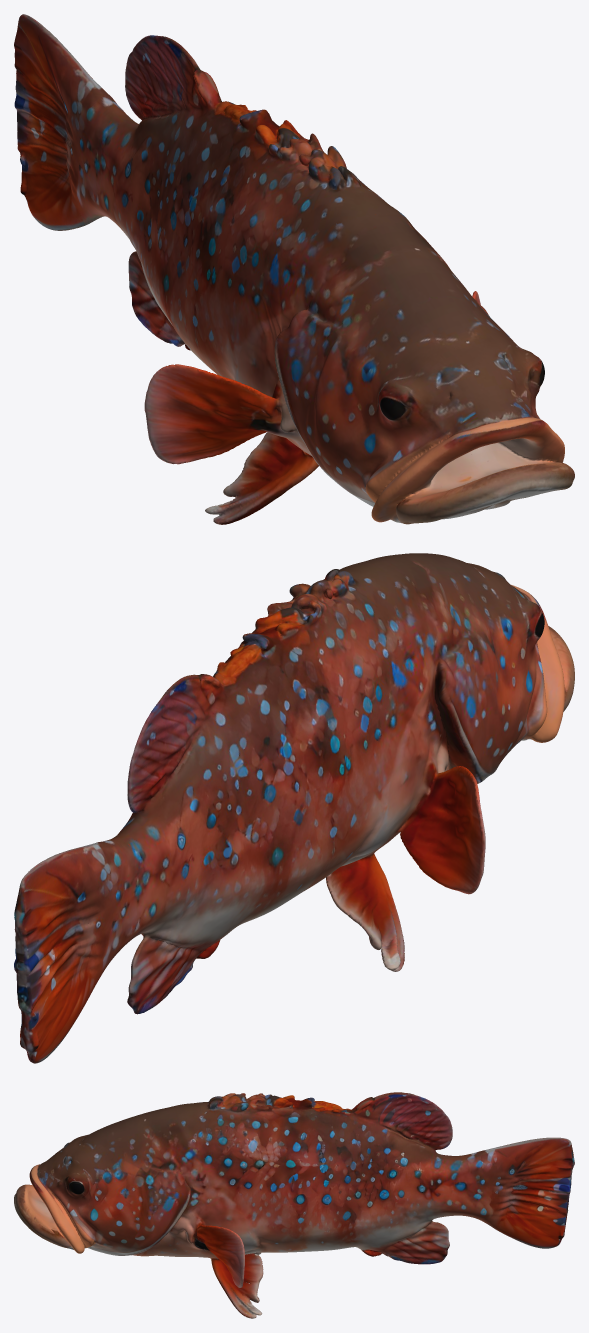
Rendered from fish_leopard_grouper.glb.
3 renders of one model, top to bottom at view 1: azimuth 30°, elevation 25°; view 2: azimuth 150°, elevation 25°; view 3: azimuth 270°, elevation 25°, orthographic. The views are drawn at different scales.
Visible parts, largest first — view 1: tripo_node_df3c16bb-f488-4b9b-b9ce-29b304a05e96; view 2: tripo_node_df3c16bb-f488-4b9b-b9ce-29b304a05e96; view 3: tripo_node_df3c16bb-f488-4b9b-b9ce-29b304a05e96.
Part boxes in pixels (x1,y1,x2,y2): tripo_node_df3c16bb-f488-4b9b-b9ce-29b304a05e96: [14, 14, 574, 524]; tripo_node_df3c16bb-f488-4b9b-b9ce-29b304a05e96: [14, 553, 574, 1063]; tripo_node_df3c16bb-f488-4b9b-b9ce-29b304a05e96: [14, 1092, 574, 1318].
Size of the model in its own units: 0.3868 by 0.3965 by 1.
1 material, 1 textured.
